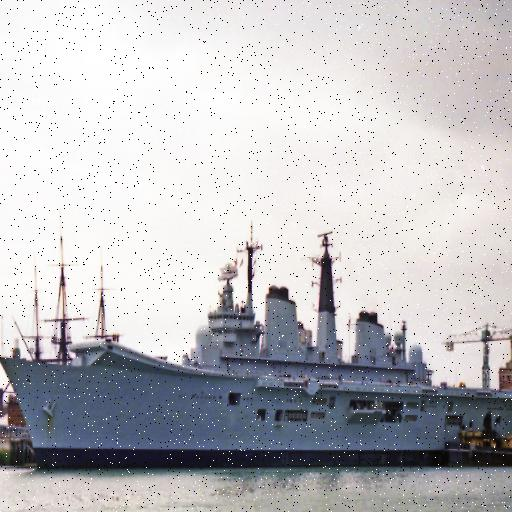Portanaves: (1, 226, 512, 474)
